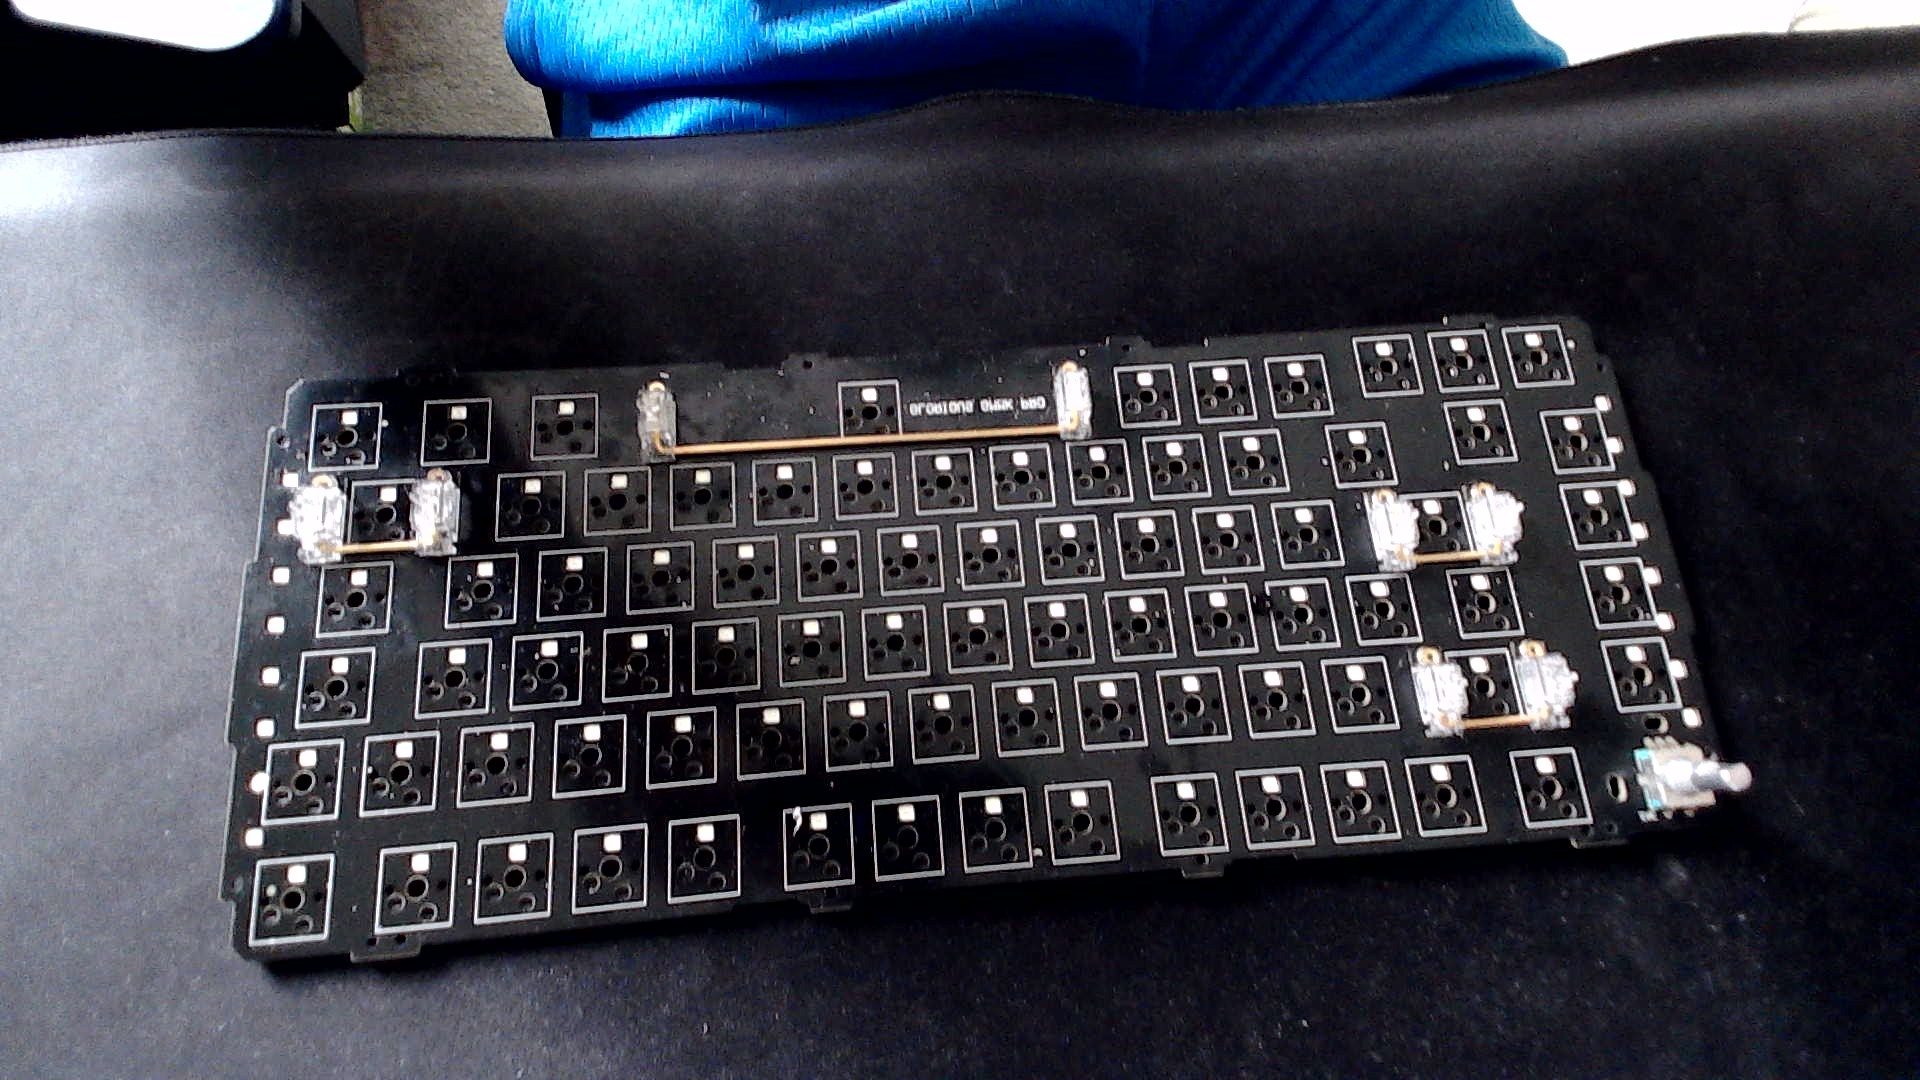pcb: (203, 258, 1789, 1007)
